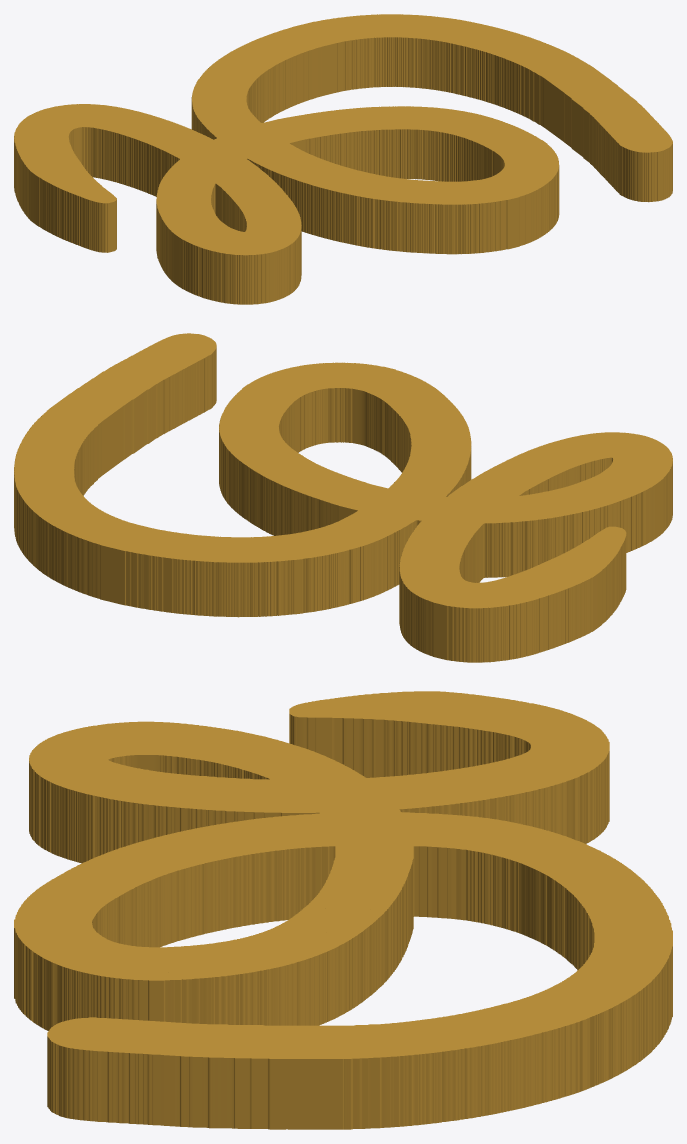
The picture shows the model from 3 angles, top to bottom: view 1: azimuth 30°, elevation 25°; view 2: azimuth 150°, elevation 25°; view 3: azimuth 270°, elevation 25°; orthographic projection. The views are drawn at different scales.
Visible parts, largest first — view 1: Curve.001; view 2: Curve.001; view 3: Curve.001.
Part boxes in pixels (x1,y1,x2,y2): Curve.001: (14,14,672,304); Curve.001: (14,333,672,662); Curve.001: (14,691,672,1129).
Size of the model in its own units: 105 by 9.36 by 79.2.
